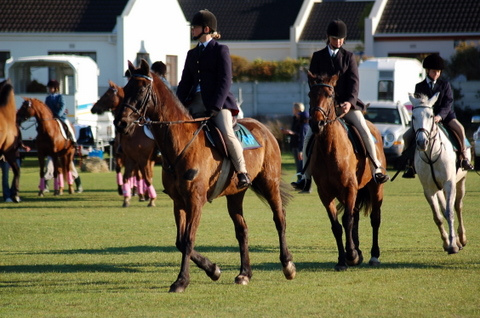person: (291, 21, 391, 195), (177, 9, 253, 190), (403, 53, 476, 180)
